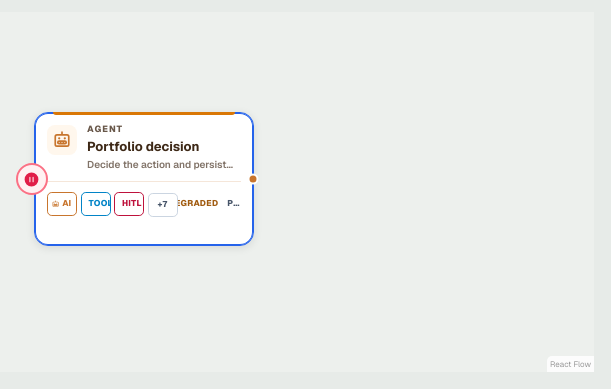
Test: ContractNode Step anatomy › keeps executor, semantic modifiers, and proposal state independent with accessible overflow
Check: the icon next to "Agent" is shown, box [47, 125, 77, 155]
Check: the text "Agent" is shown, box [87, 123, 123, 135]
Click the button with class "contract-node-modifier-chip" showing "HITL".
click(129, 204)  # box [114, 192, 144, 216]
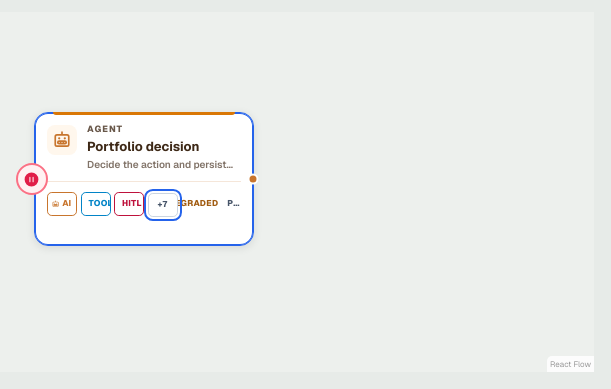
Click the button with class "contract-node-modifier-overflow-button".
click(162, 205)  # box [148, 193, 178, 217]
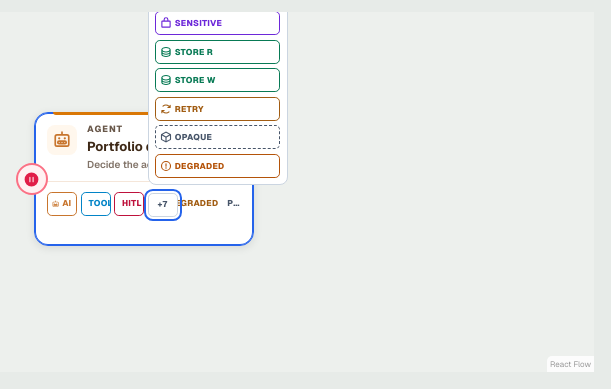
Check: the button "Sensitive" is shown, box [155, 12, 280, 36]
